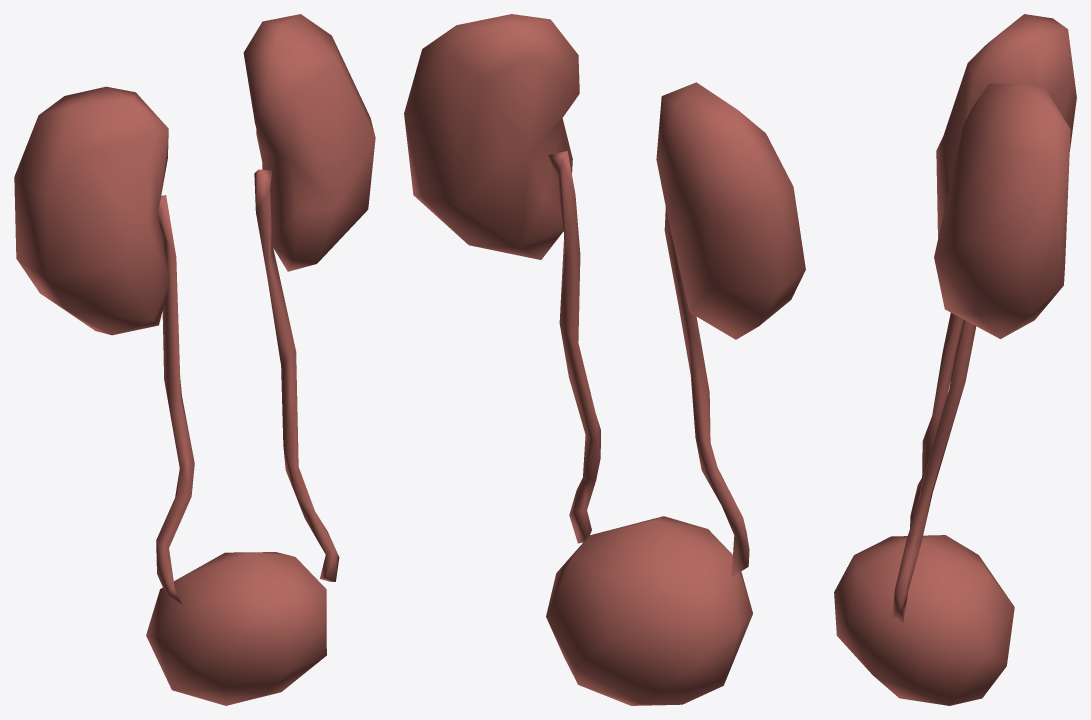
File: pediatric_child_5y_male.urinary.LOD3.glb
3 views of the same model, side by side, from view 1: azimuth 30°, elevation 25°; view 2: azimuth 150°, elevation 25°; view 3: azimuth 270°, elevation 25° (orthographic). The views are drawn at different scales.
Parts seen in each view (by area): view 1: PEDIATRIC.CHILD_5Y.MALE.URINARY.KIDNEY_CORTEX.R, PEDIATRIC.CHILD_5Y.MALE.URINARY.KIDNEY_CORTEX.L, PEDIATRIC.CHILD_5Y.MALE.URINARY.URINARY_BLADDER_WALL, PEDIATRIC.CHILD_5Y.MALE.URINARY.URETER.L, PEDIATRIC.CHILD_5Y.MALE.URINARY.URETER.R; view 2: PEDIATRIC.CHILD_5Y.MALE.URINARY.KIDNEY_CORTEX.L, PEDIATRIC.CHILD_5Y.MALE.URINARY.URINARY_BLADDER_WALL, PEDIATRIC.CHILD_5Y.MALE.URINARY.KIDNEY_CORTEX.R, PEDIATRIC.CHILD_5Y.MALE.URINARY.URETER.L, PEDIATRIC.CHILD_5Y.MALE.URINARY.URETER.R; view 3: PEDIATRIC.CHILD_5Y.MALE.URINARY.KIDNEY_CORTEX.L, PEDIATRIC.CHILD_5Y.MALE.URINARY.URINARY_BLADDER_WALL, PEDIATRIC.CHILD_5Y.MALE.URINARY.KIDNEY_CORTEX.R, PEDIATRIC.CHILD_5Y.MALE.URINARY.URETER.L, PEDIATRIC.CHILD_5Y.MALE.URINARY.URETER.R.
Boxes of the visible parts, x1,y1,x2,y2 form: PEDIATRIC.CHILD_5Y.MALE.URINARY.KIDNEY_CORTEX.R: (14, 86, 169, 335); PEDIATRIC.CHILD_5Y.MALE.URINARY.KIDNEY_CORTEX.L: (243, 14, 375, 271); PEDIATRIC.CHILD_5Y.MALE.URINARY.URINARY_BLADDER_WALL: (146, 552, 326, 705); PEDIATRIC.CHILD_5Y.MALE.URINARY.URETER.L: (254, 169, 339, 581); PEDIATRIC.CHILD_5Y.MALE.URINARY.URETER.R: (156, 195, 194, 604); PEDIATRIC.CHILD_5Y.MALE.URINARY.KIDNEY_CORTEX.L: (404, 14, 579, 259); PEDIATRIC.CHILD_5Y.MALE.URINARY.URINARY_BLADDER_WALL: (546, 516, 752, 705); PEDIATRIC.CHILD_5Y.MALE.URINARY.KIDNEY_CORTEX.R: (656, 82, 805, 339); PEDIATRIC.CHILD_5Y.MALE.URINARY.URETER.L: (548, 151, 600, 543); PEDIATRIC.CHILD_5Y.MALE.URINARY.URETER.R: (664, 207, 749, 576); PEDIATRIC.CHILD_5Y.MALE.URINARY.KIDNEY_CORTEX.L: (934, 83, 1070, 338); PEDIATRIC.CHILD_5Y.MALE.URINARY.URINARY_BLADDER_WALL: (834, 535, 1014, 705); PEDIATRIC.CHILD_5Y.MALE.URINARY.KIDNEY_CORTEX.R: (936, 14, 1076, 237); PEDIATRIC.CHILD_5Y.MALE.URINARY.URETER.L: (892, 319, 976, 622); PEDIATRIC.CHILD_5Y.MALE.URINARY.URETER.R: (910, 313, 962, 527).
Bounding box in the file's own units: 0.123 × 0.2151 × 0.0718.
